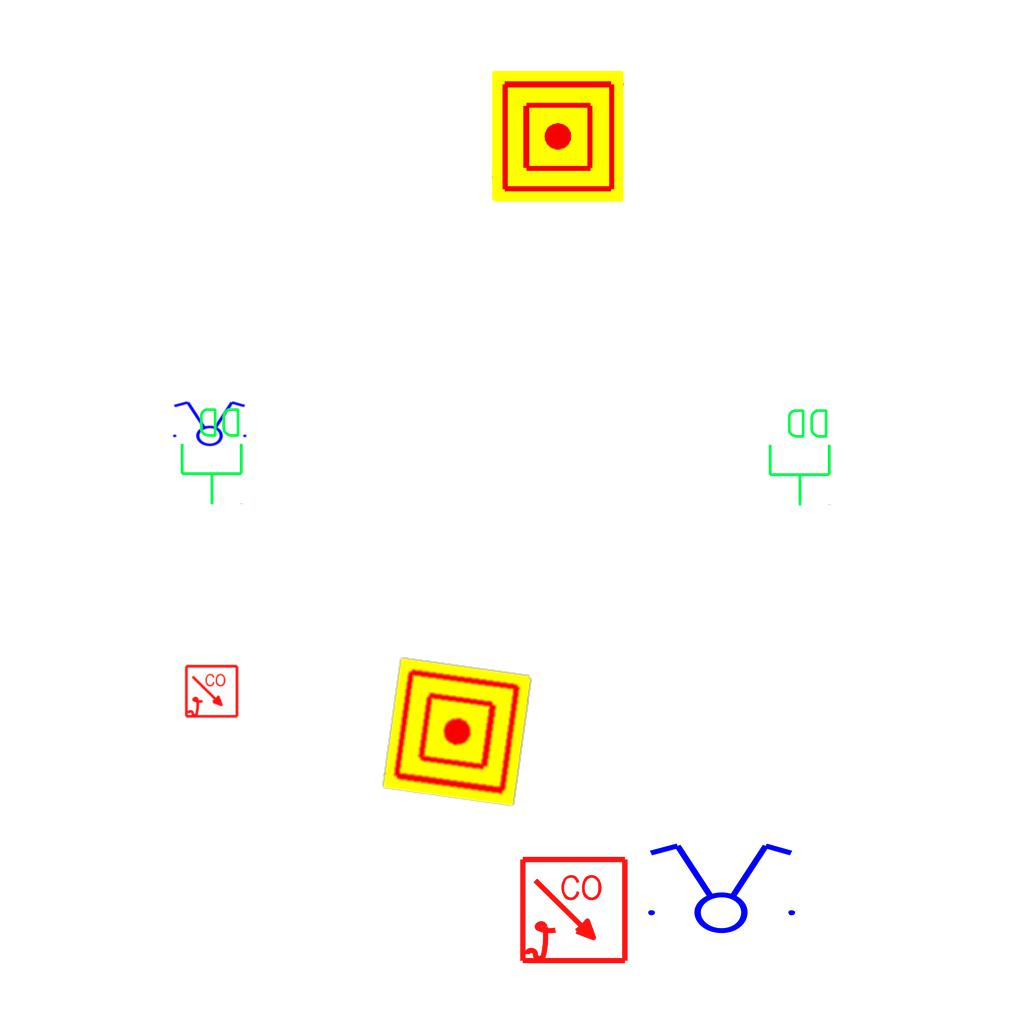Datenanschluss_zweifach: (766, 405, 835, 508), (178, 404, 247, 507)
NAM-Nichtautomatischer_Melder: (382, 657, 532, 807), (492, 70, 624, 202)
ROA_Rauchmelder_optisch_mit_Signalgeber_(Sockelsirene): (518, 855, 631, 968), (184, 664, 240, 720)
Serienschalter: (636, 839, 804, 935), (167, 399, 251, 447)
